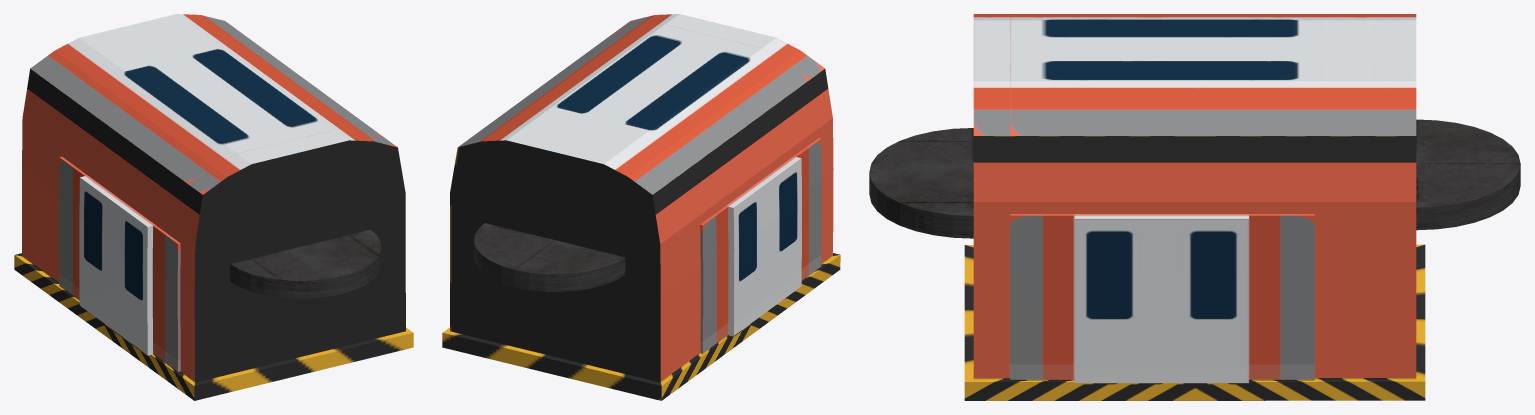
File: train-car_1.fbx
3 views of the same model, side by side, from view 1: azimuth 30°, elevation 25°; view 2: azimuth 150°, elevation 25°; view 3: azimuth 270°, elevation 25° (orthographic). The views are drawn at different scales.
Parts seen in each view (by area): view 1: Cube.097; view 2: Cube.097; view 3: Cube.097.
Part boxes in pixels (bbox=[...]): Cube.097: bbox=[14, 14, 413, 400]; Cube.097: bbox=[442, 14, 840, 400]; Cube.097: bbox=[869, 14, 1520, 400].
Bounding box in the file's own units: 233 × 215 × 451.
